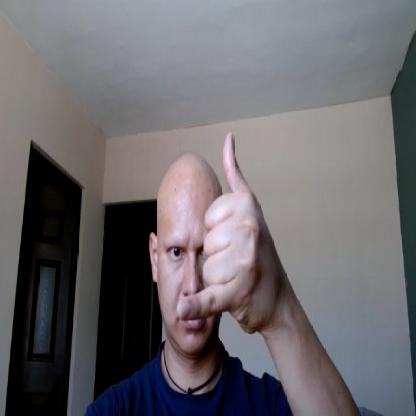Y: (175, 134, 272, 322)
